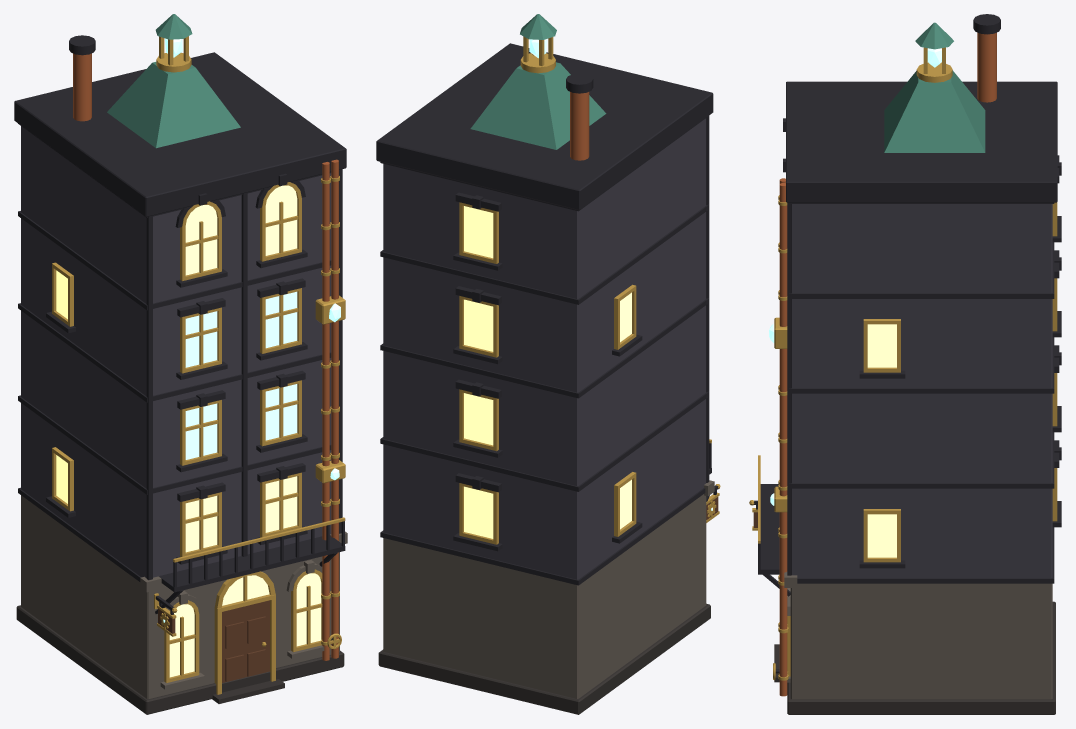
File: CasaAlta.fbx
3 renders of one model, left to right at view 1: azimuth 30°, elevation 25°; view 2: azimuth 150°, elevation 25°; view 3: azimuth 270°, elevation 25°, orthographic. The views are drawn at different scales.
Parts seen in each view (by area): view 1: Corpo, JanelaCristal, JanelaAndar0, JanelaAndar4, JanelaAndar1; view 2: Corpo, JanelaAndar1, JanelaAndar3, JanelaAndar2, JanelaAndar4; view 3: Corpo, JanelaAndar1, JanelaAndar3.
Boxes of the visible parts, left/top/right/bottom form: Corpo: left=14, top=14, right=347, bottom=714; JanelaCristal: left=185, top=291, right=297, bottom=459; JanelaAndar0: left=169, top=573, right=321, bottom=677; JanelaAndar4: left=185, top=185, right=297, bottom=275; JanelaAndar1: left=56, top=455, right=297, bottom=552; Corpo: left=376, top=14, right=720, bottom=714; JanelaAndar1: left=464, top=479, right=631, bottom=538; JanelaAndar3: left=464, top=292, right=631, bottom=351; JanelaAndar2: left=464, top=393, right=493, bottom=445; JanelaAndar4: left=464, top=206, right=493, bottom=258; Corpo: left=749, top=14, right=1061, bottom=714; JanelaAndar1: left=867, top=514, right=896, bottom=557; JanelaAndar3: left=867, top=324, right=896, bottom=367.
Bounding box in the file's own units: 7.56 × 21.65 × 9.55.
